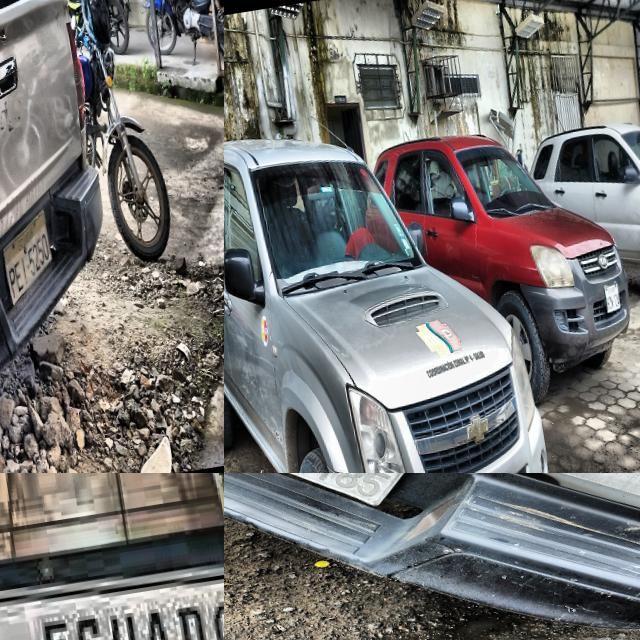license_plate: (0, 545, 224, 640), (1, 206, 54, 311), (279, 473, 409, 510)
